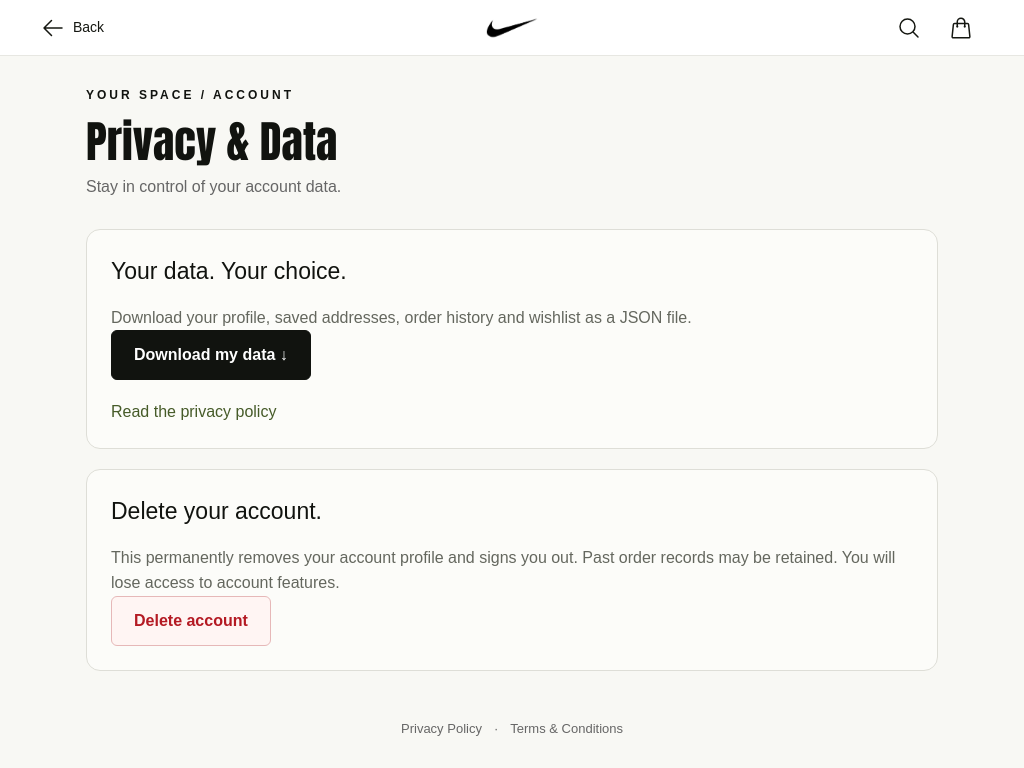
Test: data export runs only on request and reports failure without deleting account
Click the button with class "settings-primary".
click(211, 355)  # box [111,330,311,380]
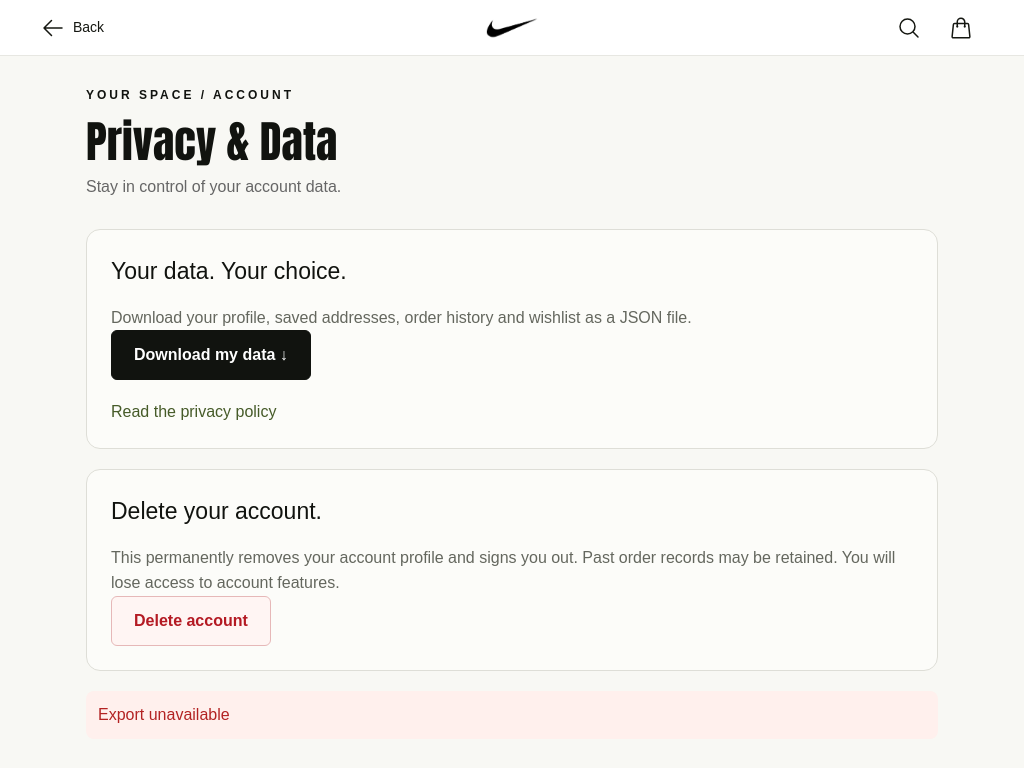
Expected: the message "Export unavailable" is shown, [86,691,938,739]
